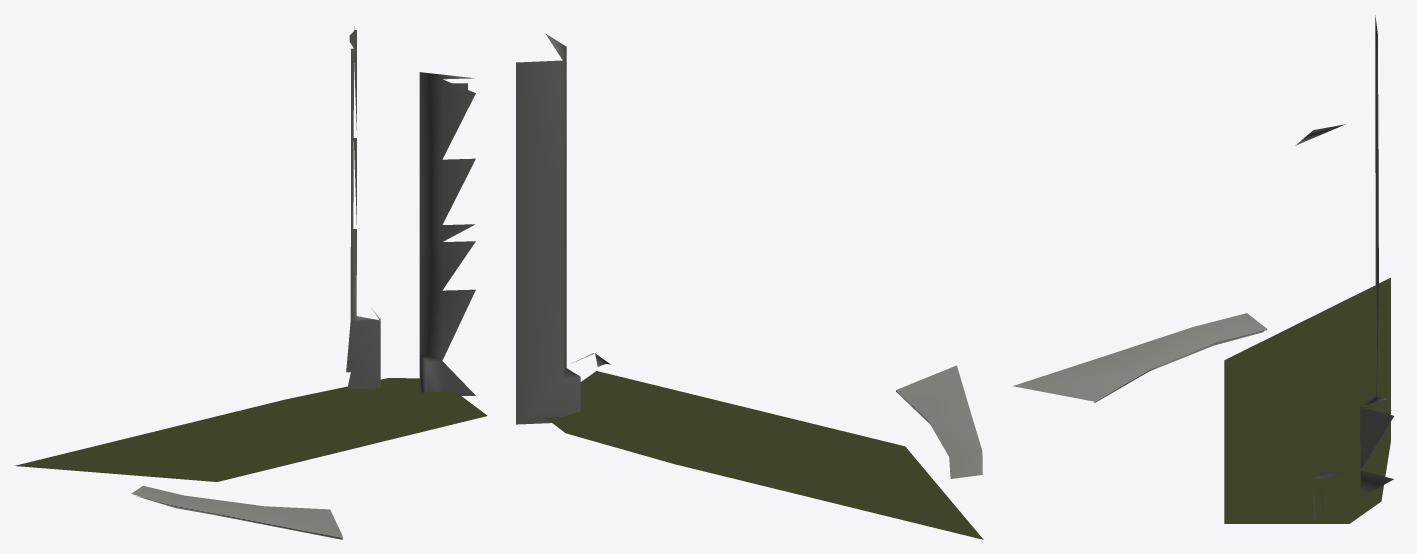
The picture shows the model from 3 angles, left to right: view 1: azimuth 30°, elevation 25°; view 2: azimuth 150°, elevation 25°; view 3: azimuth 270°, elevation 25°; orthographic projection. The views are drawn at different scales.
Parts seen in each view (by area): view 1: merged__lod1; view 2: merged__lod1; view 3: merged__lod1.
Part boxes in pixels (<box>): merged__lod1: <box>15,26,487,539</box>; merged__lod1: <box>516,33,983,539</box>; merged__lod1: <box>1012,15,1394,523</box>.
Size of the model in its own units: 249 by 216 by 160.
